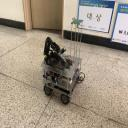cart: (40, 53, 82, 105)
